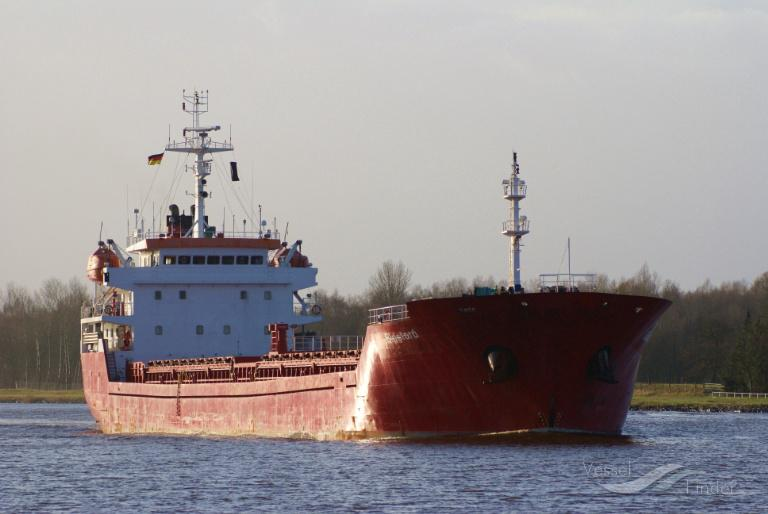OCR: (377, 328, 419, 350)
